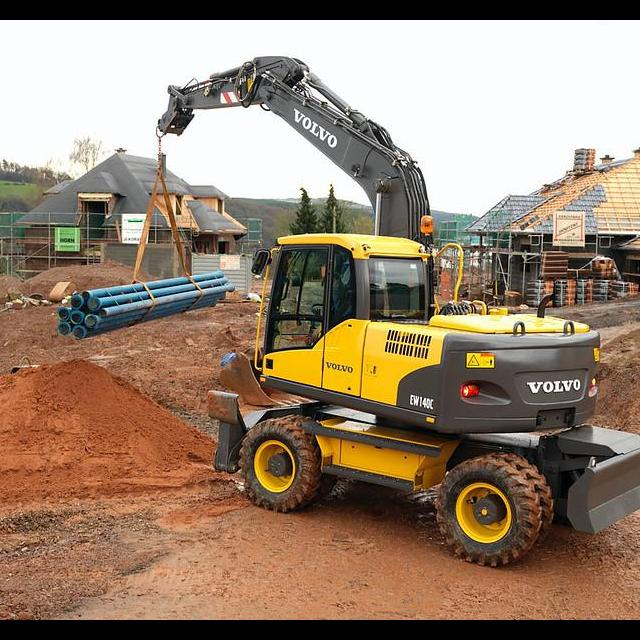Excavator: (155, 53, 640, 565)
Person: (311, 271, 349, 343)
Safety Vest: (331, 283, 350, 312)
